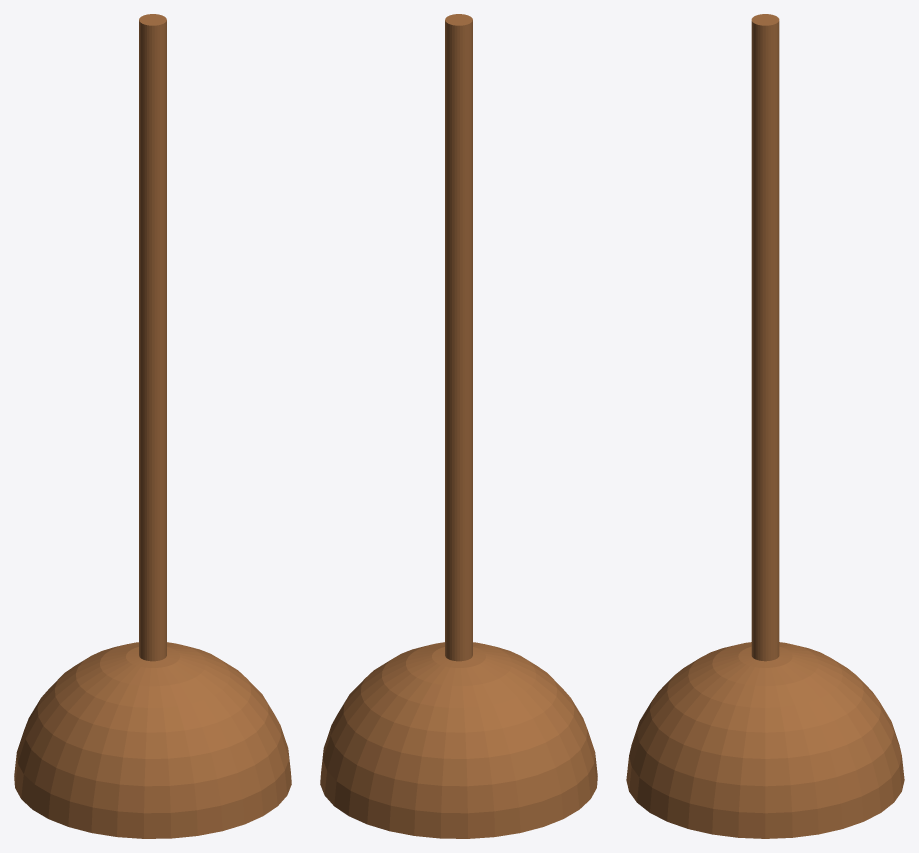
File: overheadLamp.glb
3 renders of one model, left to right at view 1: azimuth 30°, elevation 25°; view 2: azimuth 150°, elevation 25°; view 3: azimuth 270°, elevation 25°, orthographic.
Visible parts, largest first — view 1: Sphere, Cylinder; view 2: Sphere, Cylinder; view 3: Sphere, Cylinder.
Boxes of the visible parts, bbox=[...] form: Sphere: bbox=[14, 642, 291, 838]; Cylinder: bbox=[139, 14, 166, 661]; Sphere: bbox=[320, 642, 597, 838]; Cylinder: bbox=[445, 14, 472, 661]; Sphere: bbox=[626, 642, 904, 838]; Cylinder: bbox=[751, 14, 779, 661].
Size of the model in its own units: 2 by 6.03 by 2.
